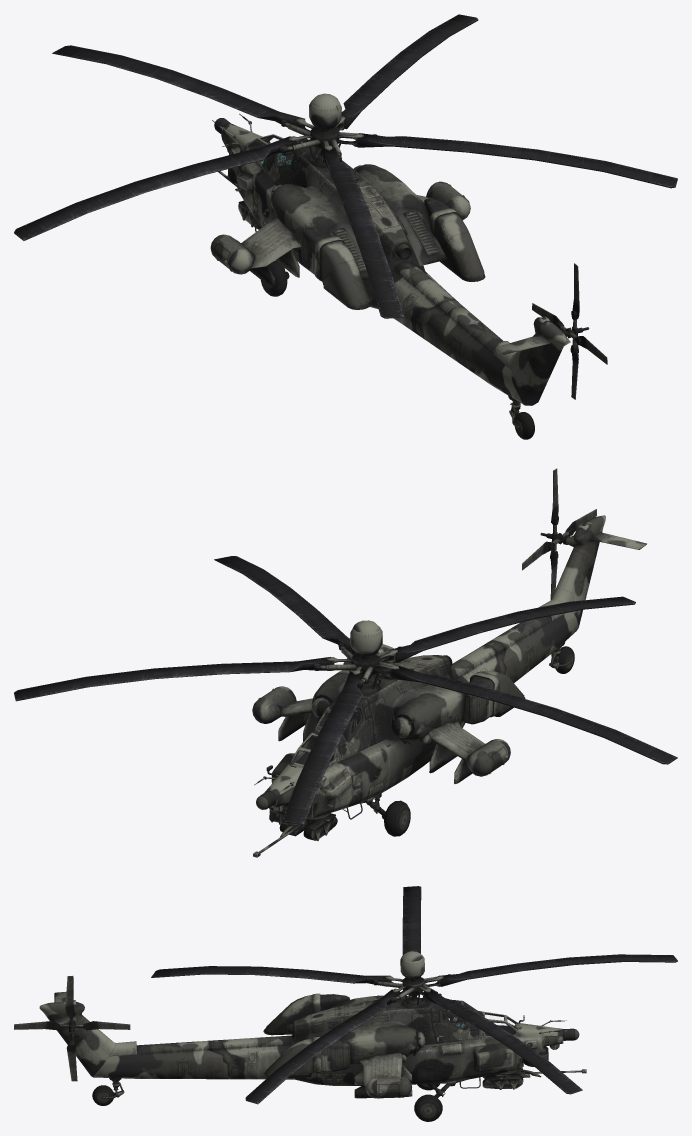
The picture shows the model from 3 angles, top to bottom: view 1: azimuth 30°, elevation 25°; view 2: azimuth 150°, elevation 25°; view 3: azimuth 270°, elevation 25°; orthographic projection. The views are drawn at different scales.
Parts seen in each view (by area): view 1: body|Body, rotor|Body, trotor|Body; view 2: body|Body, rotor|Body, trotor|Body, body|inter; view 3: body|Body, rotor|Body, trotor|Body, body|inter.
Boxes of the visible parts, x1=… form: body|Body: x1=210, y1=93, x2=570, y2=439; rotor|Body: x1=14, y1=14, x2=677, y2=318; trotor|Body: x1=532, y1=263, x2=607, y2=399; body|Body: x1=252, y1=515, x2=646, y2=857; rotor|Body: x1=14, y1=556, x2=677, y2=824; trotor|Body: x1=522, y1=468, x2=596, y2=599; body|inter: x1=292, y1=705, x2=363, y2=764; body|Body: x1=39, y1=951, x2=586, y2=1121; rotor|Body: x1=151, y1=886, x2=677, y2=1104; trotor|Body: x1=14, y1=976, x2=130, y2=1081; body|inter: x1=441, y1=1002, x2=515, y2=1035.
Bounding box in the file's own units: 15.59 × 5.25 × 20.61.
Materials: 5 (4 with a texture image).
